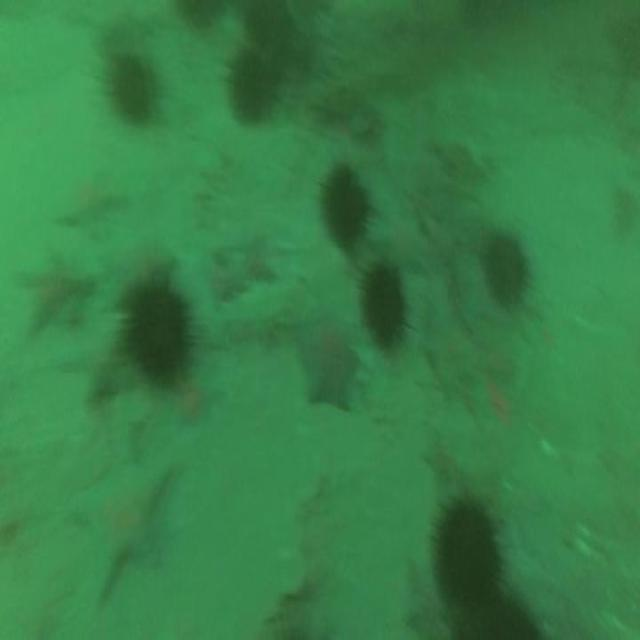echinus: (435, 506, 497, 606), (126, 294, 191, 389), (361, 266, 403, 344), (324, 170, 364, 250), (228, 49, 268, 123), (484, 229, 524, 299), (109, 63, 154, 125)
starfish: (79, 442, 171, 599), (295, 316, 360, 408), (24, 256, 90, 338), (65, 180, 125, 240), (174, 376, 214, 430)
